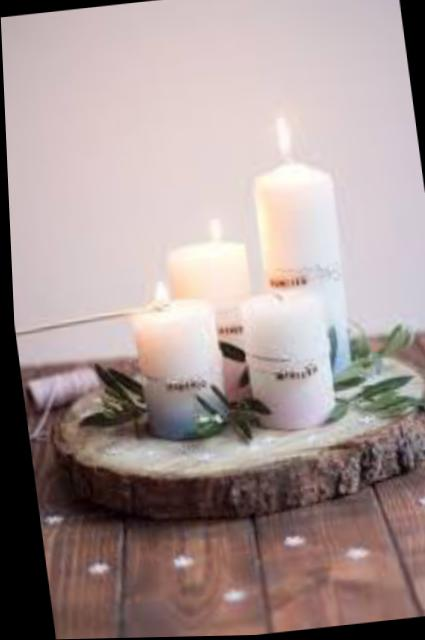fire: (273, 110, 298, 163), (145, 274, 176, 308), (204, 213, 228, 246)
